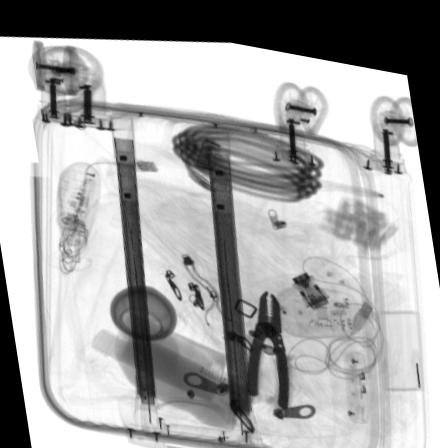Pliers: (245, 280, 288, 401)
